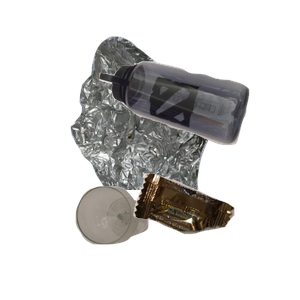glass: (73, 184, 214, 300)
metal: (68, 34, 300, 214)
plastic: (97, 59, 300, 197)
trash: (131, 171, 300, 300)
